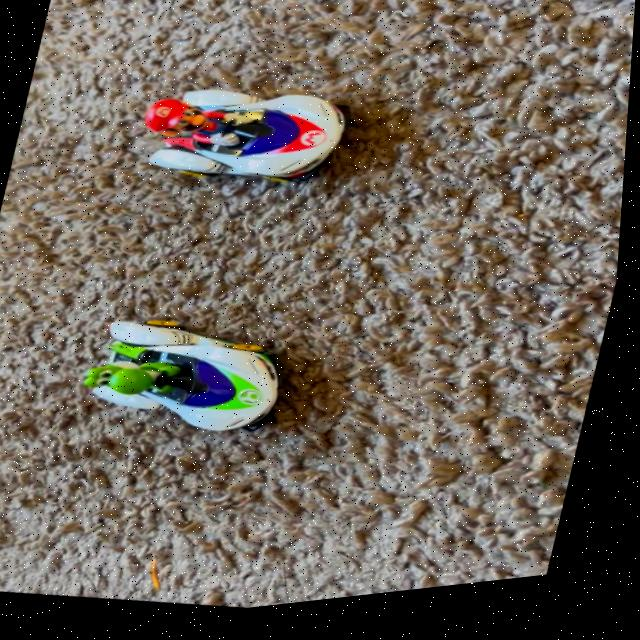mario: (119, 53, 375, 226)
yoshi: (65, 274, 329, 477)
